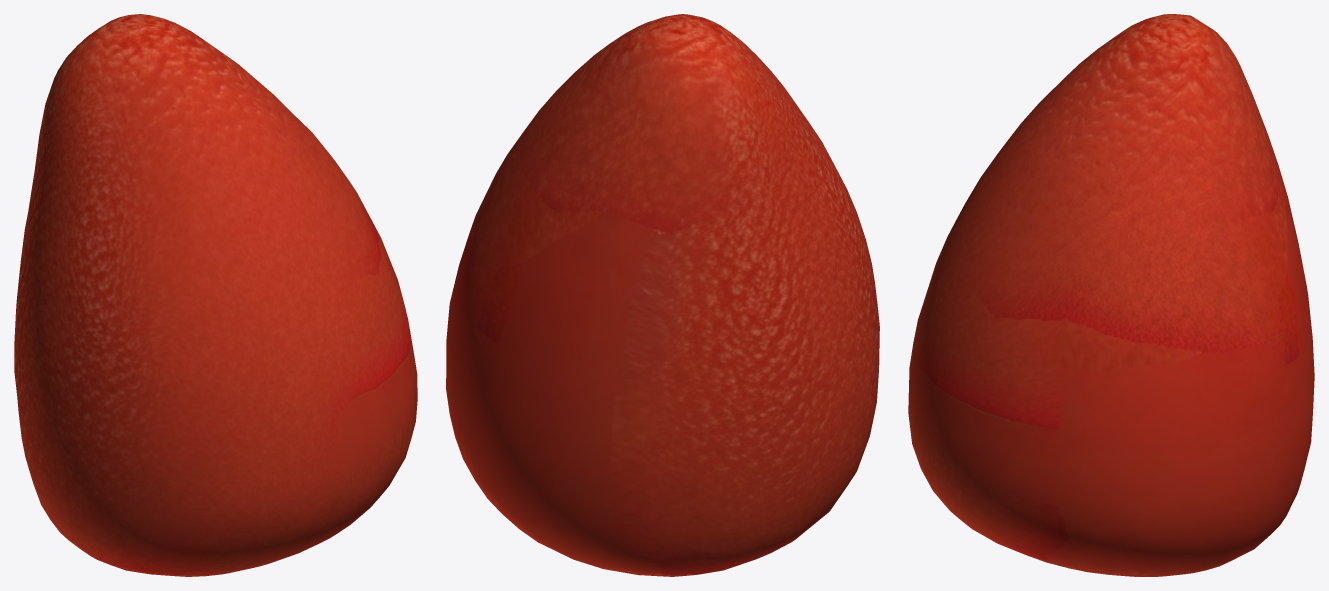
The model's file is Strawberry_Whole.fbx.
3 renders of one model, left to right at view 1: azimuth 30°, elevation 25°; view 2: azimuth 150°, elevation 25°; view 3: azimuth 270°, elevation 25°, orthographic. The views are drawn at different scales.
Parts seen in each view (by area): view 1: Strawberry_Whole; view 2: Strawberry_Whole; view 3: Strawberry_Whole.
Part boxes in pixels (x1,y1,x2,y2): Strawberry_Whole: (14,14,417,576); Strawberry_Whole: (446,14,879,576); Strawberry_Whole: (908,14,1314,576).
Bounding box in the file's own units: 0.043 × 0.06 × 0.043.
1 material, 1 textured.
